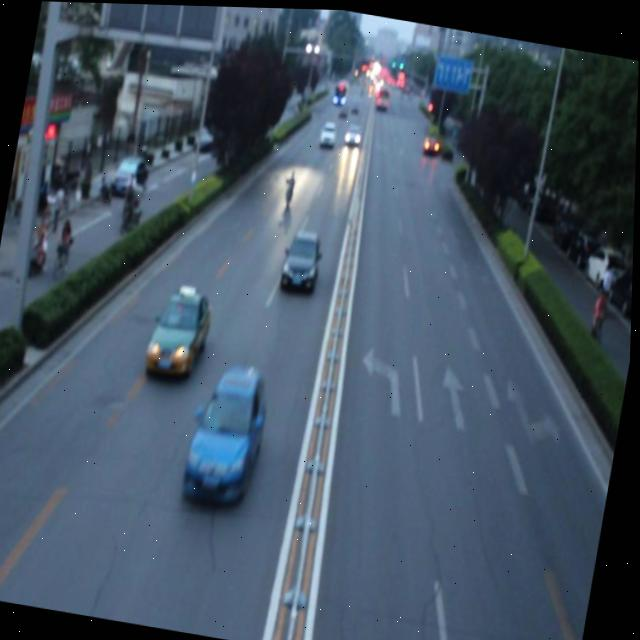car: (180, 356, 276, 513), (148, 283, 215, 377), (279, 227, 327, 295)
